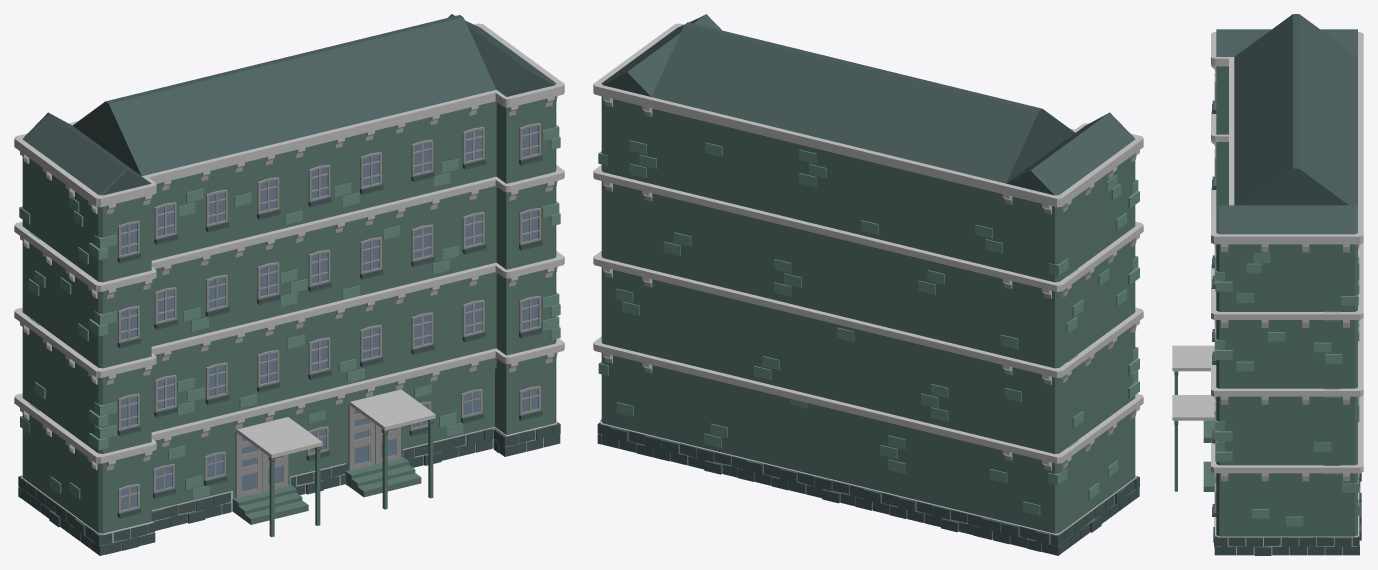
File: skyscraper-c.high.glb
3 renders of one model, left to right at view 1: azimuth 30°, elevation 25°; view 2: azimuth 150°, elevation 25°; view 3: azimuth 270°, elevation 25°, orthographic. The views are drawn at different scales.
Visible parts, largest first — view 1: 4Story_Wide_2Doors_Roof_Mat; view 2: 4Story_Wide_2Doors_Roof_Mat; view 3: 4Story_Wide_2Doors_Roof_Mat.
Part boxes in pixels (x1,y1,x2,y2): 4Story_Wide_2Doors_Roof_Mat: [14, 14, 564, 555]; 4Story_Wide_2Doors_Roof_Mat: [593, 14, 1143, 555]; 4Story_Wide_2Doors_Roof_Mat: [1172, 14, 1363, 555].
Size of the model in its own units: 6.83 by 5.68 by 2.7.
